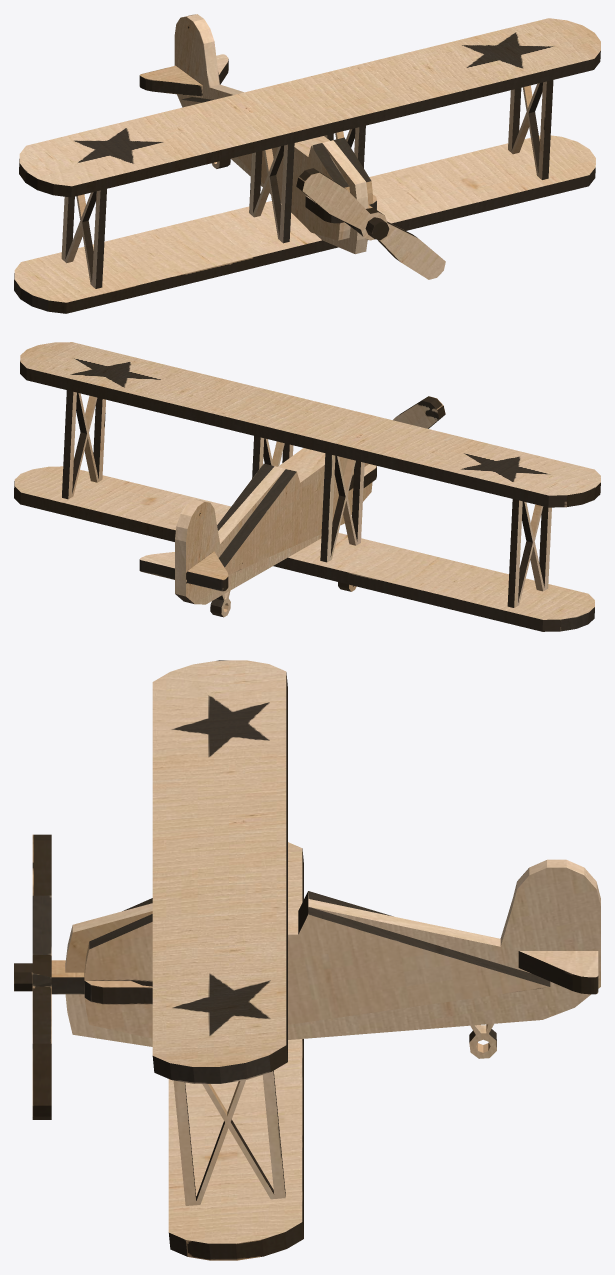
The model's file is samolet.glb.
3 views of the same model, one above another, from view 1: azimuth 30°, elevation 25°; view 2: azimuth 150°, elevation 25°; view 3: azimuth 270°, elevation 25° (orthographic). The views are drawn at different scales.
Visible parts, largest first — view 1: самолет.001; view 2: самолет.001; view 3: самолет.001.
Boxes of the visible parts, box(x1,y1,x2,y2) form: самолет.001: box(14, 14, 600, 313); самолет.001: box(14, 342, 600, 631); самолет.001: box(14, 660, 600, 1260).
Bounding box in the file's own units: 87.21 × 23.23 × 53.17.
1 material, 1 textured.
